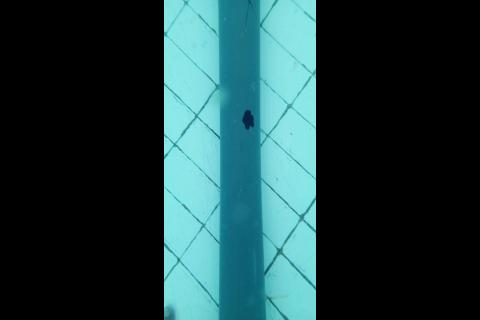kebocoran: (242, 109, 254, 131)
keretakan: (244, 0, 256, 25)
